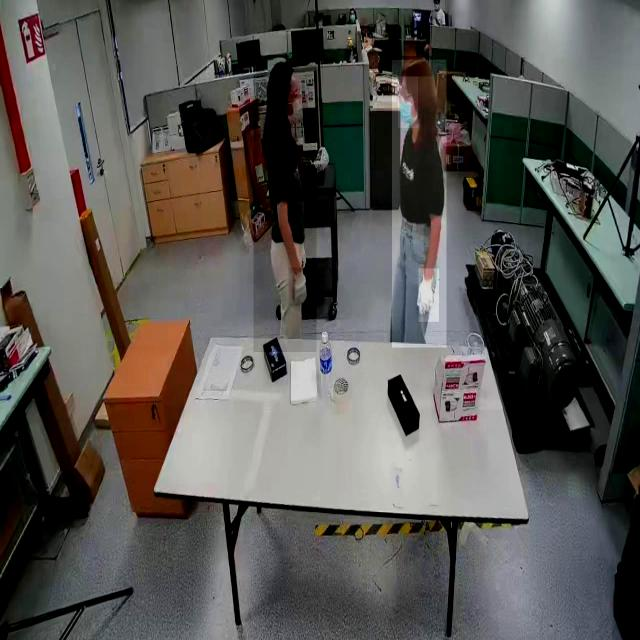face_mask: (398, 76, 418, 128), (284, 94, 308, 128)
hand_glove: (418, 268, 439, 322), (289, 268, 307, 306)
head_nohelmet: (401, 56, 433, 77), (267, 58, 295, 81), (348, 6, 355, 11)
person: (253, 55, 317, 353), (392, 59, 447, 348)
